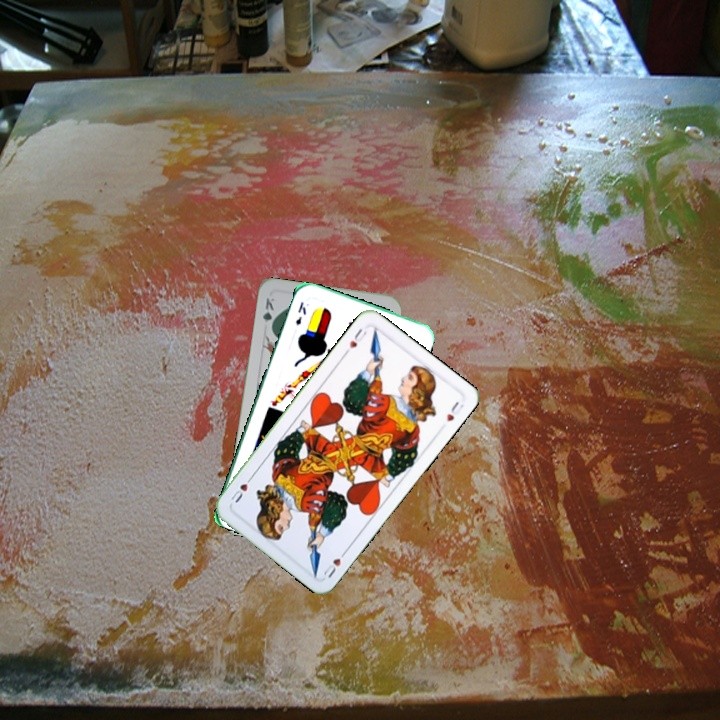EK: (291, 298, 309, 328)
GK: (259, 294, 277, 333)
HU: (319, 546, 350, 581), (340, 324, 369, 357)
